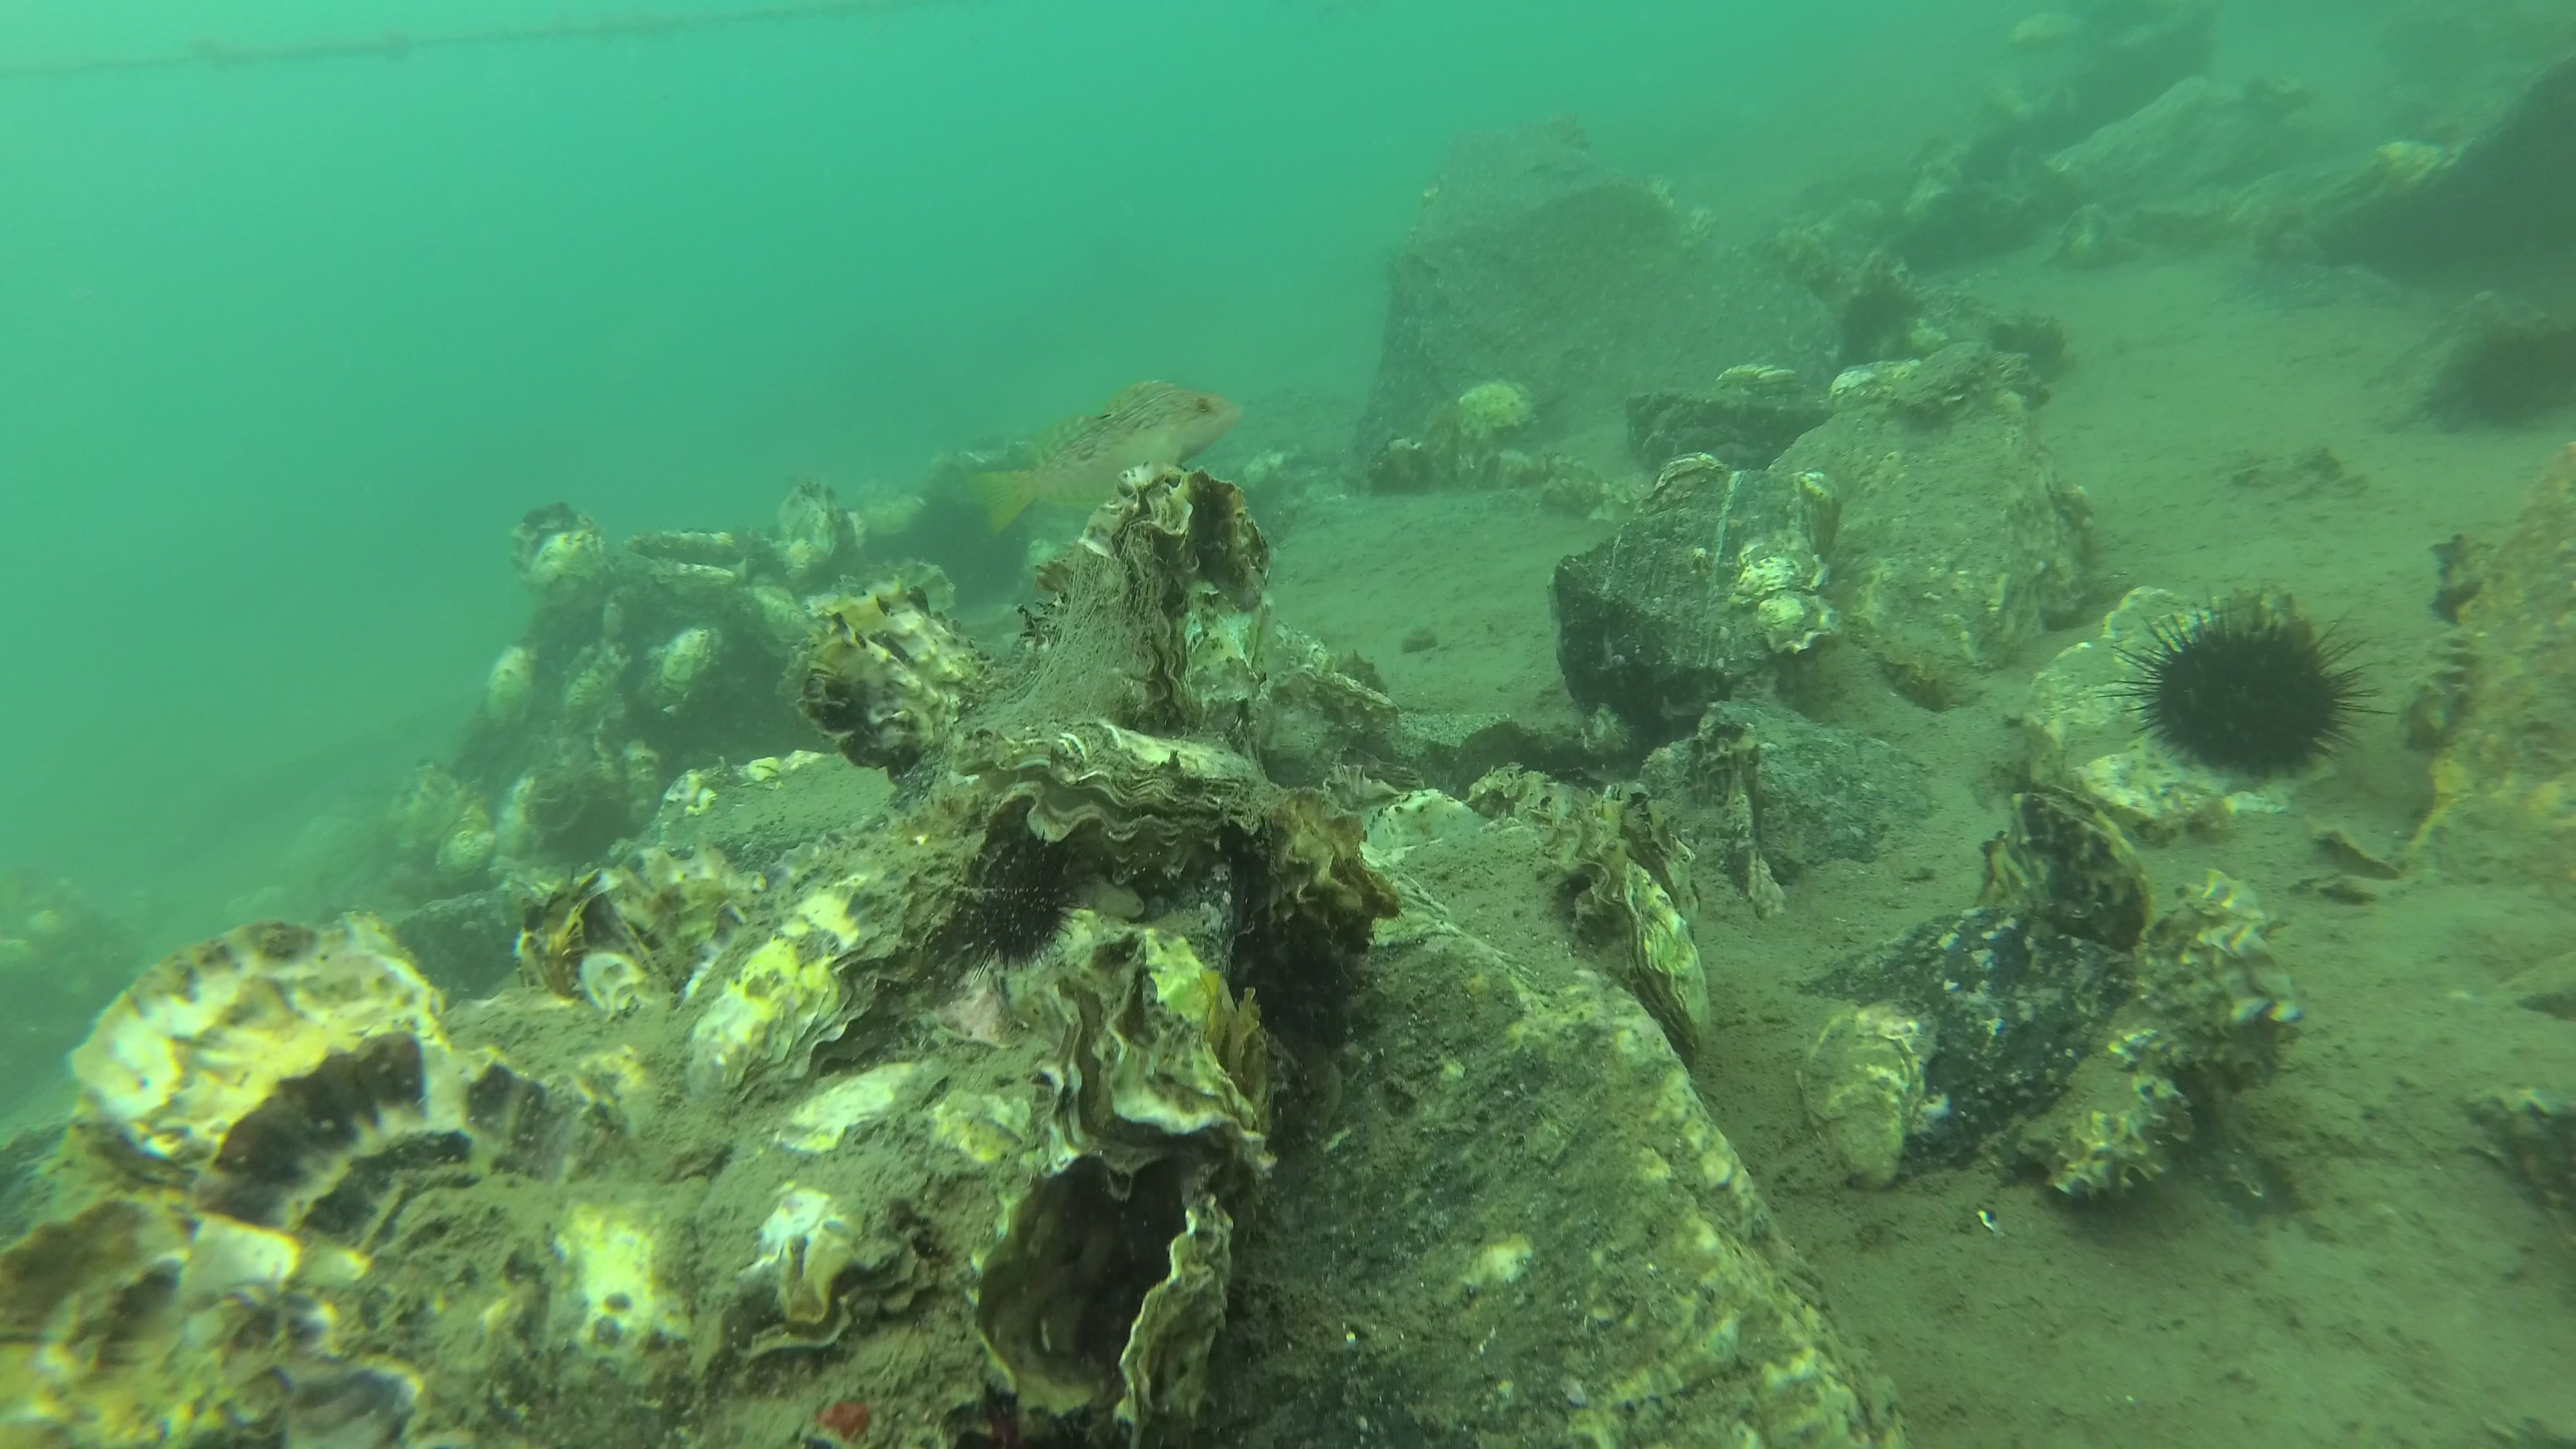echinus: (2095, 579, 2403, 782), (938, 828, 1093, 982), (2459, 333, 2551, 437)
